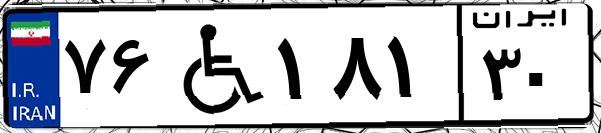0: (525, 38, 570, 115)
1: (270, 28, 330, 110), (385, 28, 445, 110)
3: (475, 38, 525, 113)
6: (110, 28, 158, 98)
7: (57, 26, 110, 100)
8: (330, 28, 385, 110)
ژ (معلولین و جانبازان): (158, 12, 270, 120)
